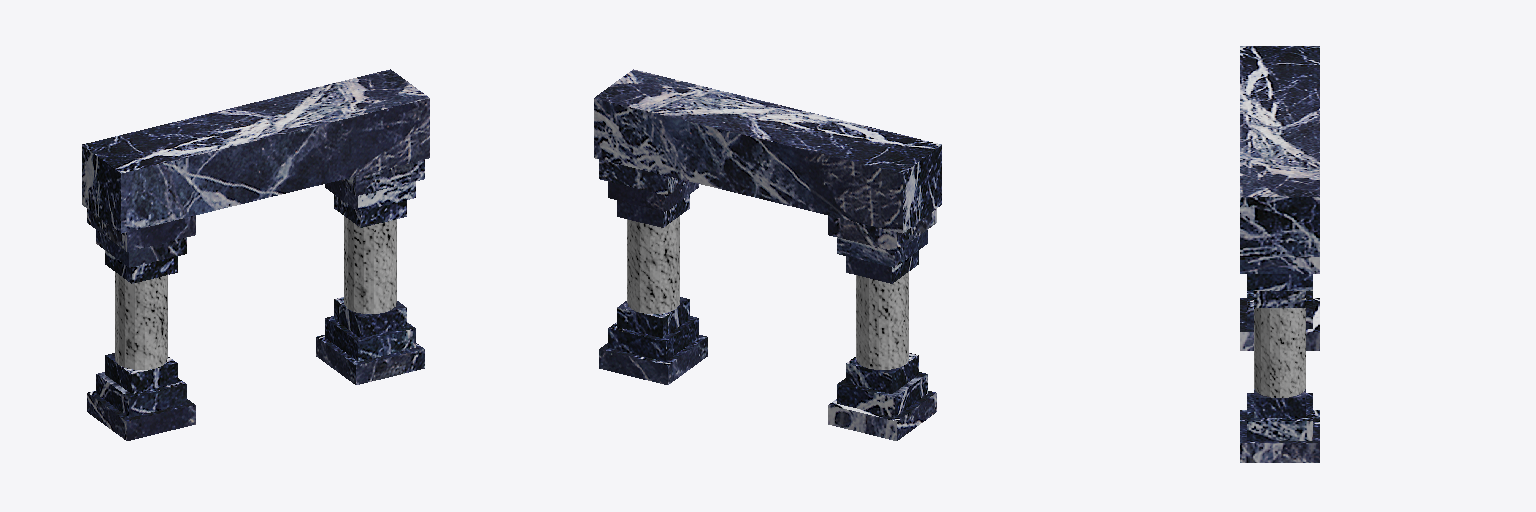
3 renders of one model, left to right at view 1: azimuth 30°, elevation 25°; view 2: azimuth 150°, elevation 25°; view 3: azimuth 270°, elevation 25°, orthographic.
Visible parts, largest first — view 1: arco_object_1, colonne_object_1.001; view 2: arco_object_1, colonne_object_1.001; view 3: arco_object_1, colonne_object_1.001.
Boxes of the visible parts, box(x1,y1,x2,y2) form: arco_object_1: box(82, 69, 429, 440); colonne_object_1.001: box(115, 216, 396, 369); arco_object_1: box(594, 69, 941, 440); colonne_object_1.001: box(627, 216, 908, 369); arco_object_1: box(1240, 46, 1319, 462); colonne_object_1.001: box(1254, 308, 1305, 397).
Size of the model in its own units: 108 by 89.8 by 24.
Materials: 2 (2 with a texture image).